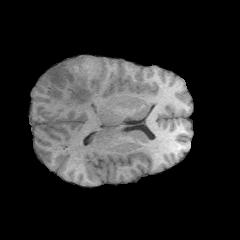glioma: (40, 59, 102, 105)
